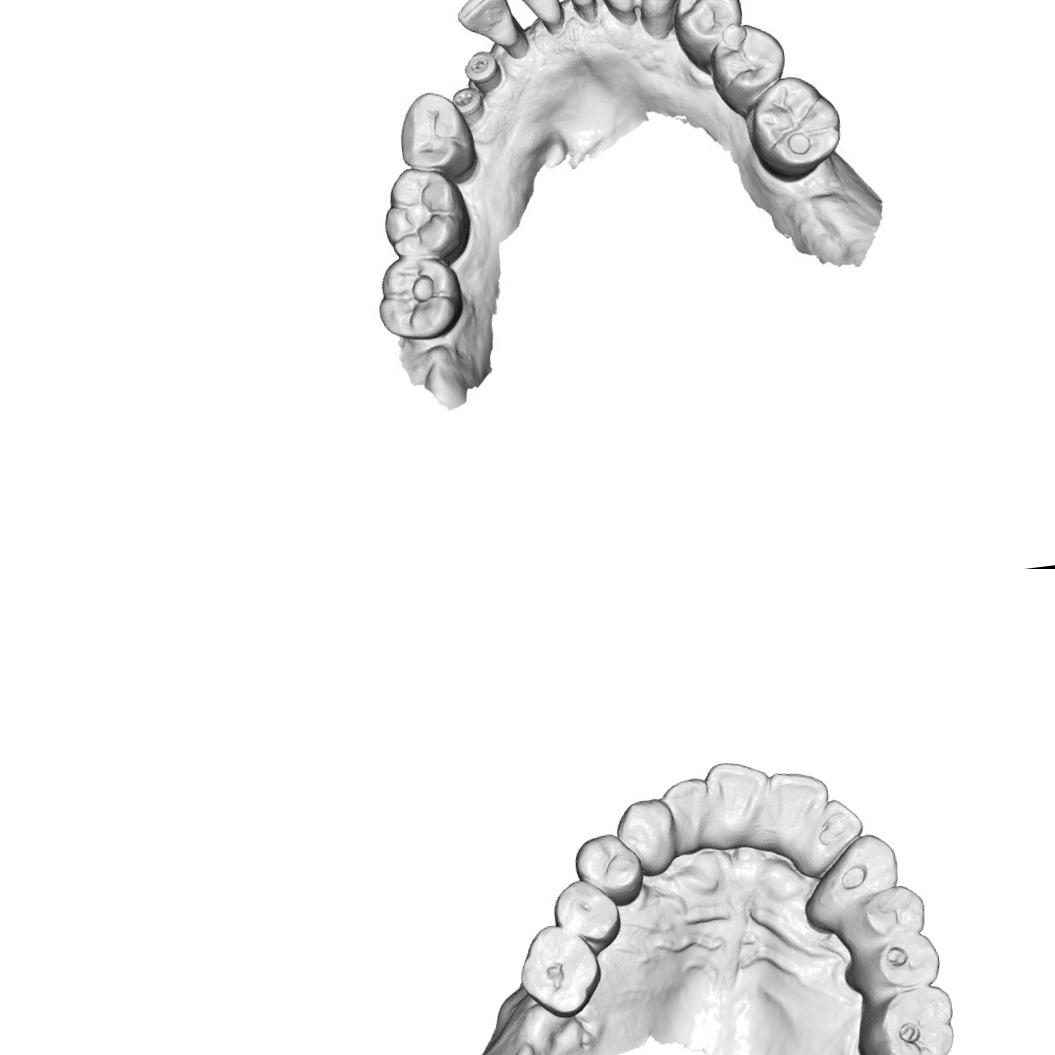canine: (811, 830, 902, 914), (613, 794, 681, 872), (630, 0, 694, 35)
implant: (460, 43, 506, 96), (451, 82, 485, 126)
incisor: (701, 756, 774, 832), (754, 765, 833, 830), (450, 0, 531, 61), (660, 776, 713, 842), (809, 794, 866, 853), (502, 0, 564, 32), (587, 0, 640, 25), (547, 0, 599, 18)
molar: (368, 160, 480, 269), (367, 249, 466, 346), (514, 917, 604, 1022), (749, 75, 844, 172), (846, 981, 959, 1055)
premolar: (392, 87, 480, 186), (703, 18, 792, 105), (845, 927, 945, 998), (568, 828, 649, 911), (840, 878, 931, 946), (548, 876, 621, 950), (672, 0, 747, 54)
